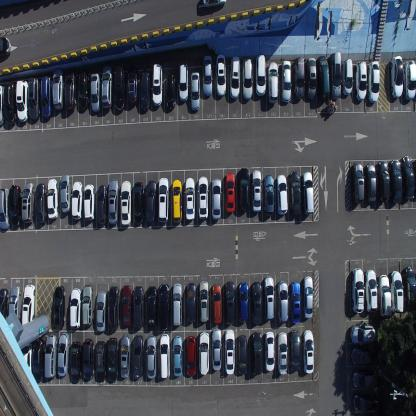car: (21, 284, 36, 330), (389, 157, 403, 205), (316, 55, 331, 99), (378, 273, 392, 319), (390, 54, 404, 99), (403, 265, 416, 313), (364, 268, 378, 312), (390, 269, 404, 313), (237, 166, 250, 213), (401, 156, 415, 199), (366, 60, 380, 103), (44, 333, 57, 379), (8, 284, 21, 330), (289, 170, 302, 216), (120, 178, 132, 226), (364, 161, 377, 205), (292, 55, 305, 99), (15, 78, 28, 122), (21, 180, 34, 224), (350, 324, 377, 345), (107, 285, 119, 332), (157, 176, 169, 223), (352, 392, 380, 412), (3, 83, 16, 126), (19, 341, 32, 384), (46, 178, 59, 221), (8, 184, 21, 227), (229, 54, 241, 100), (352, 267, 364, 313), (159, 334, 171, 380), (57, 331, 69, 377), (53, 284, 65, 330), (145, 180, 157, 226), (114, 62, 125, 112), (352, 368, 377, 390), (101, 64, 113, 109), (351, 347, 378, 367), (302, 275, 314, 320), (263, 275, 275, 320), (251, 281, 263, 326), (377, 160, 390, 201), (352, 160, 364, 204), (52, 66, 64, 110), (40, 74, 52, 118), (28, 76, 40, 120), (302, 330, 314, 374), (289, 328, 301, 372), (277, 280, 289, 324), (81, 283, 93, 327), (70, 339, 82, 383), (276, 172, 288, 216), (184, 177, 196, 221), (132, 182, 144, 226), (108, 178, 119, 226), (330, 52, 341, 99), (224, 328, 235, 375), (133, 284, 144, 331), (302, 171, 314, 214), (69, 287, 81, 330), (263, 174, 275, 217), (281, 58, 292, 104), (224, 280, 235, 326), (198, 330, 209, 376), (133, 334, 144, 380), (107, 336, 118, 382), (33, 337, 44, 383), (403, 58, 415, 100), (211, 283, 223, 325), (224, 171, 236, 213), (242, 56, 253, 101), (211, 327, 222, 372), (121, 283, 132, 328), (120, 333, 131, 378), (83, 337, 94, 382), (355, 60, 367, 101), (65, 71, 77, 112), (70, 180, 82, 221), (267, 60, 278, 104), (290, 280, 301, 324), (277, 332, 288, 376), (251, 331, 262, 375), (146, 284, 157, 328), (146, 335, 157, 379), (96, 184, 107, 228), (159, 282, 169, 330), (306, 56, 317, 99), (255, 52, 266, 95), (96, 290, 107, 333), (127, 64, 138, 106), (172, 334, 183, 376), (95, 340, 106, 382), (140, 71, 151, 112), (60, 173, 71, 214), (35, 183, 46, 224), (152, 62, 162, 107), (172, 282, 182, 327), (251, 168, 261, 213), (172, 178, 182, 223), (216, 53, 226, 97), (202, 53, 212, 97), (178, 59, 188, 103), (78, 70, 89, 110), (237, 334, 248, 374), (199, 279, 209, 323), (186, 280, 196, 324), (211, 177, 221, 221), (198, 176, 208, 220), (84, 182, 95, 222), (341, 59, 353, 95), (0, 286, 9, 333), (186, 335, 196, 377), (0, 186, 9, 232), (190, 70, 200, 111), (90, 72, 100, 113), (265, 331, 275, 372), (238, 281, 248, 322), (166, 73, 176, 110), (0, 34, 12, 58), (202, 0, 227, 8), (0, 83, 4, 127)
